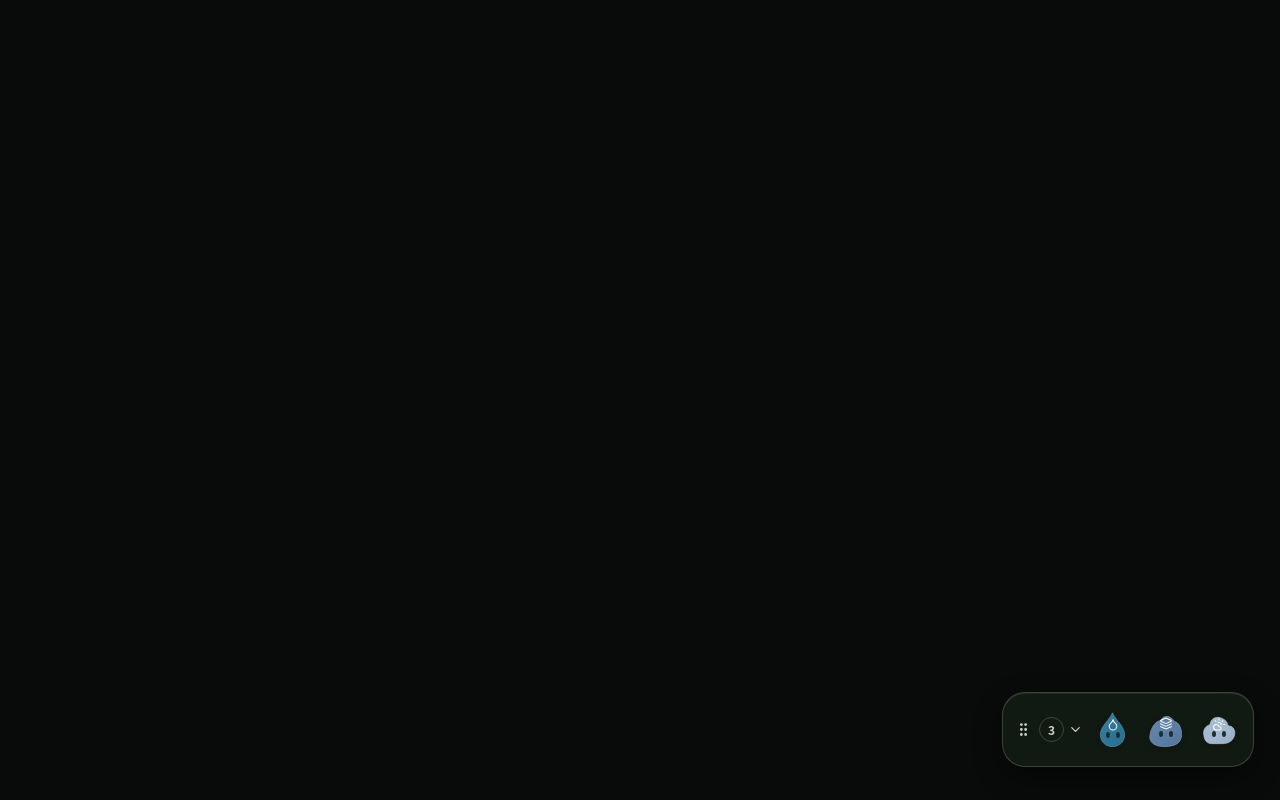
Test: opens cited web search results from the source panel
Later steps or results of the test are not shown.
Click the button named "Open Water specialist" at (1112,730), box left=1088, top=705, right=1137, bottom=754
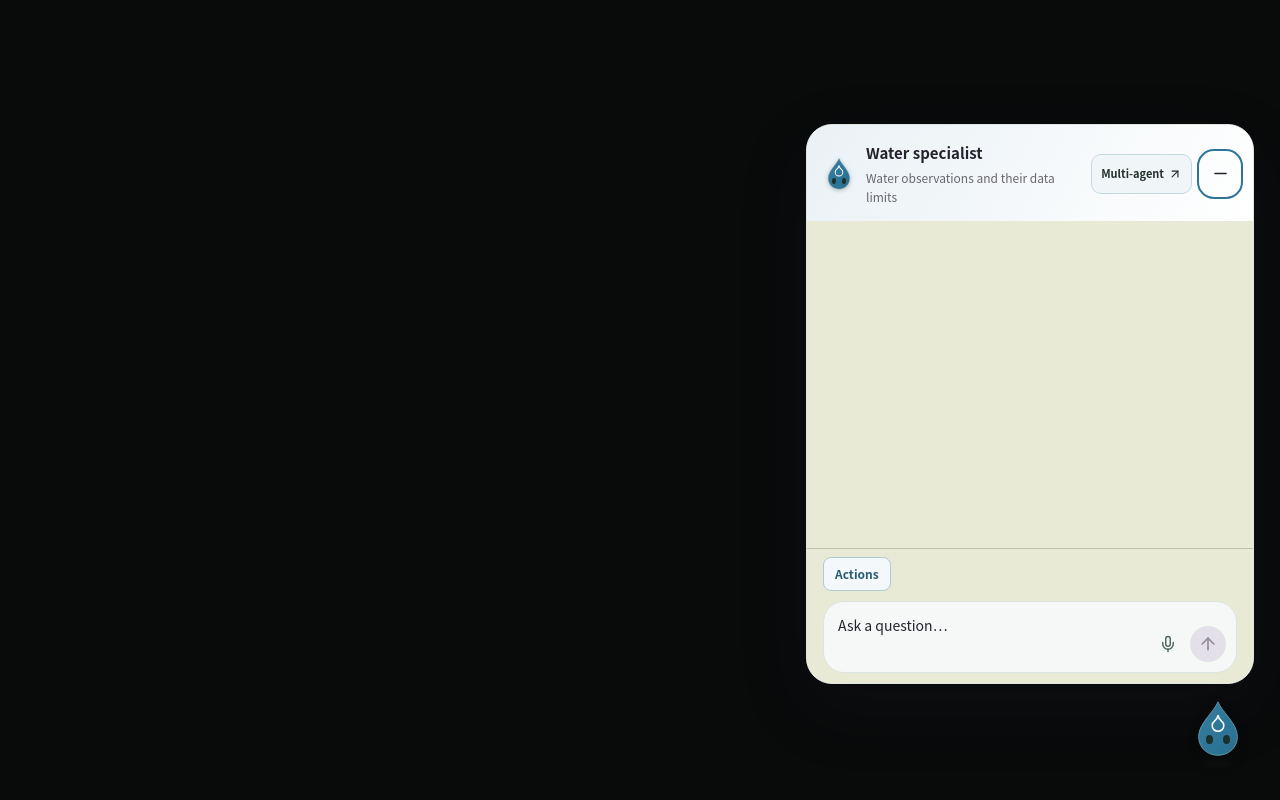
Type "Find current guidance" into the text box named "Message Water specialist" at (990,638), box left=838, top=614, right=1142, bottom=662
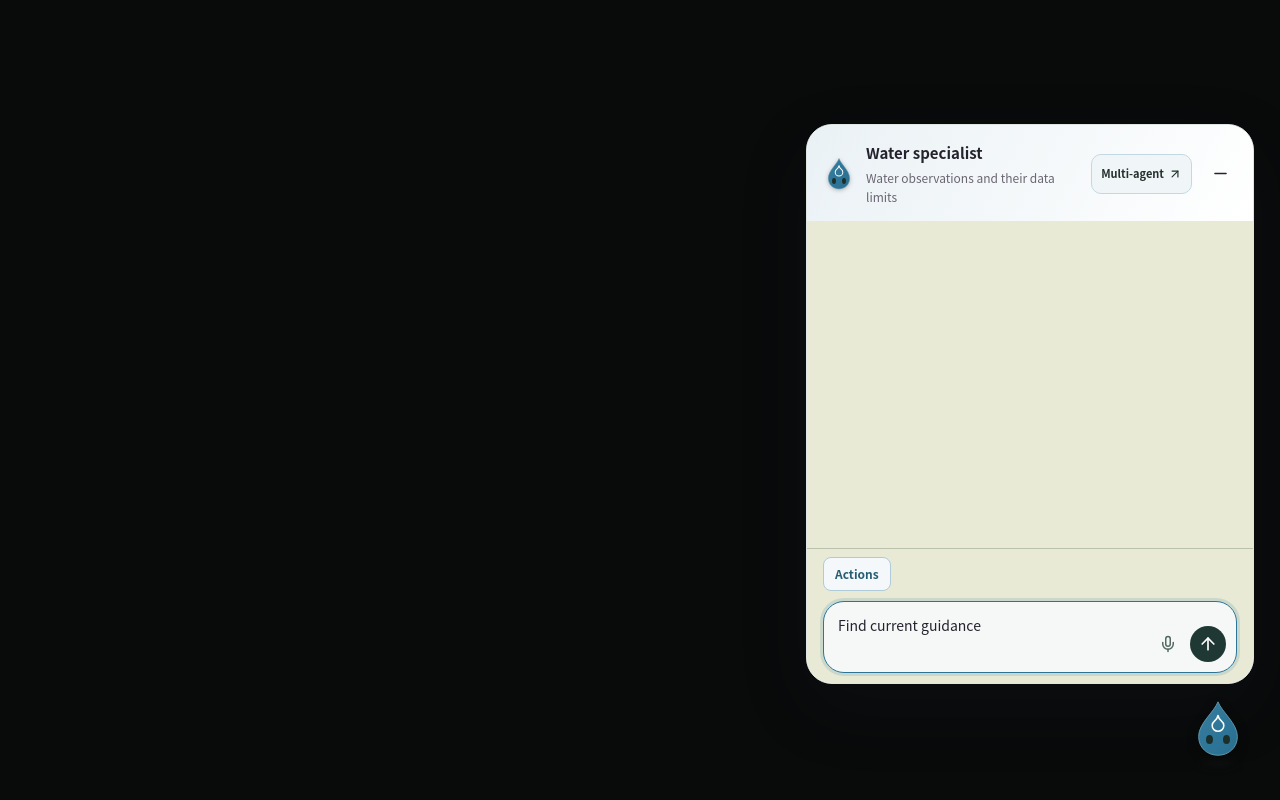
Click the button named "Send message" at (1208,644), box left=1190, top=626, right=1226, bottom=662
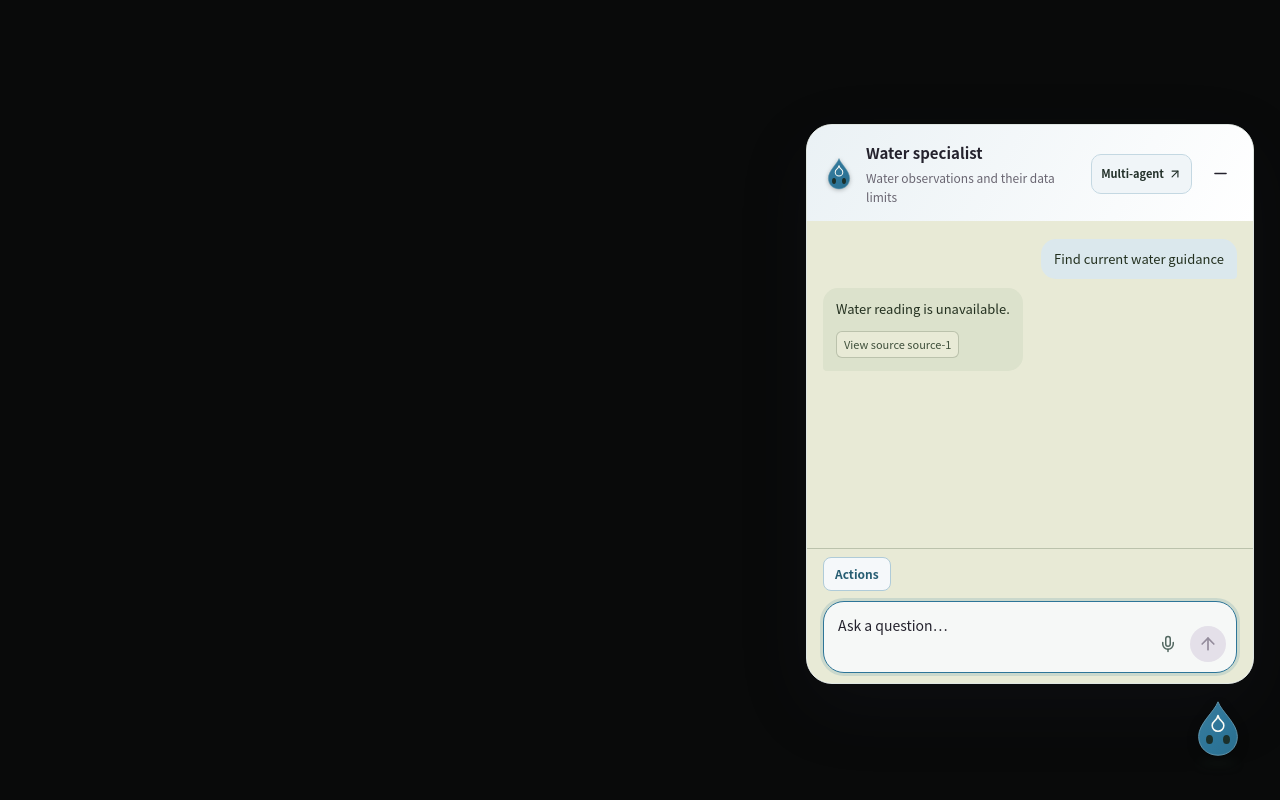
Result: the text "Water reading is unavailable." is shown at left=836, top=299, right=1010, bottom=319
